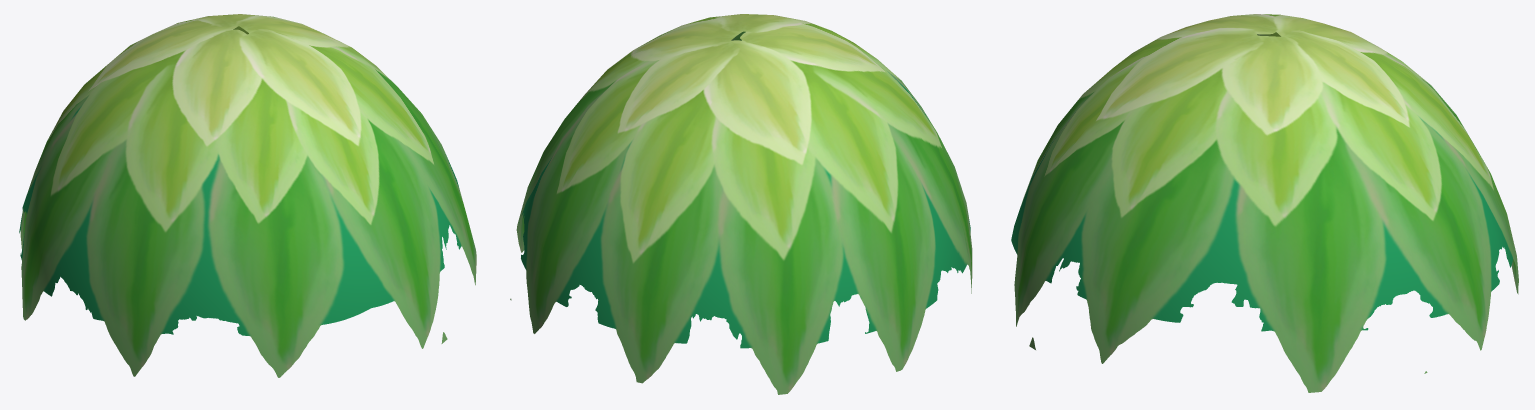
Rendered from Bush_Leaves_2.fbx.
The picture shows the model from 3 angles, left to right: view 1: azimuth 30°, elevation 25°; view 2: azimuth 150°, elevation 25°; view 3: azimuth 270°, elevation 25°; orthographic projection. The views are drawn at different scales.
Visible parts, largest first — view 1: pSphere6; view 2: pSphere6; view 3: pSphere6.
Boxes of the visible parts, <box> form: pSphere6: <box>19,14,476,377</box>; pSphere6: <box>510,14,972,394</box>; pSphere6: <box>1011,14,1518,392</box>.
Size of the model in its own units: 90.92 by 58.54 by 97.57.
